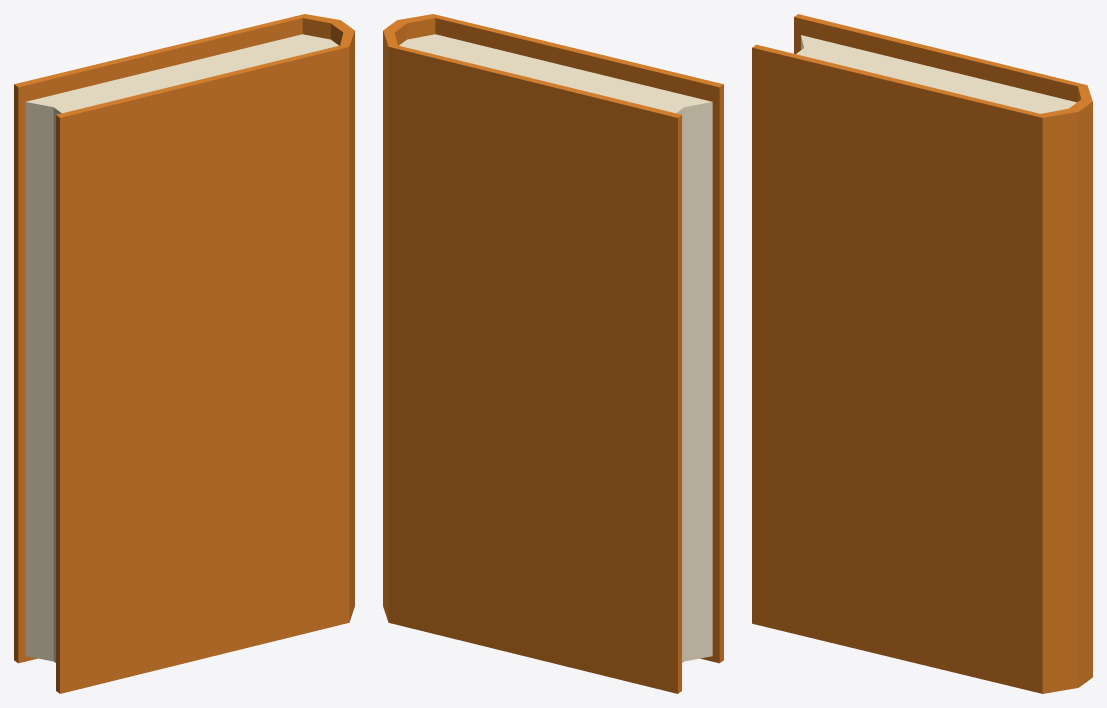
File: Book_04.fbx
The picture shows the model from 3 angles, left to right: view 1: azimuth 30°, elevation 25°; view 2: azimuth 150°, elevation 25°; view 3: azimuth 330°, elevation 25°; orthographic projection.
Visible parts, largest first — view 1: Plane.230; view 2: Plane.230; view 3: Plane.230.
Part boxes in pixels (left/top/right/bottom): Plane.230: left=14, top=14, right=354, bottom=693; Plane.230: left=383, top=14, right=723, bottom=693; Plane.230: left=752, top=14, right=1092, bottom=693.
Bounding box in the file's own units: 0.394 × 0.101 × 0.6977.
